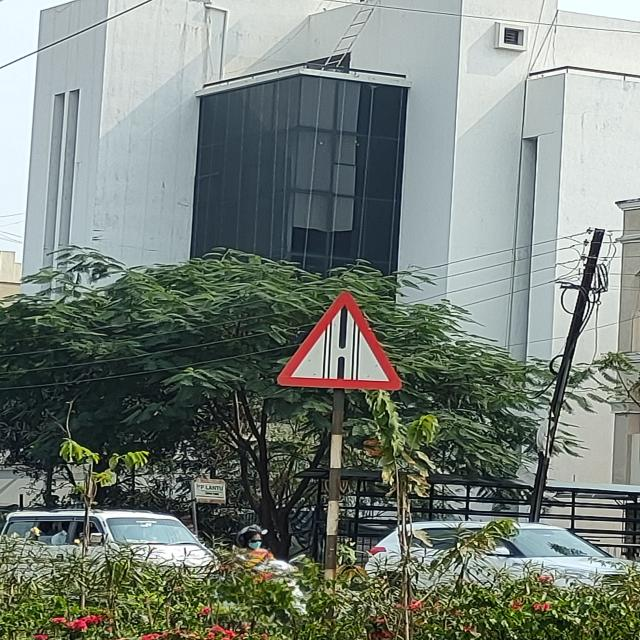ferry: (275, 289, 405, 394)
